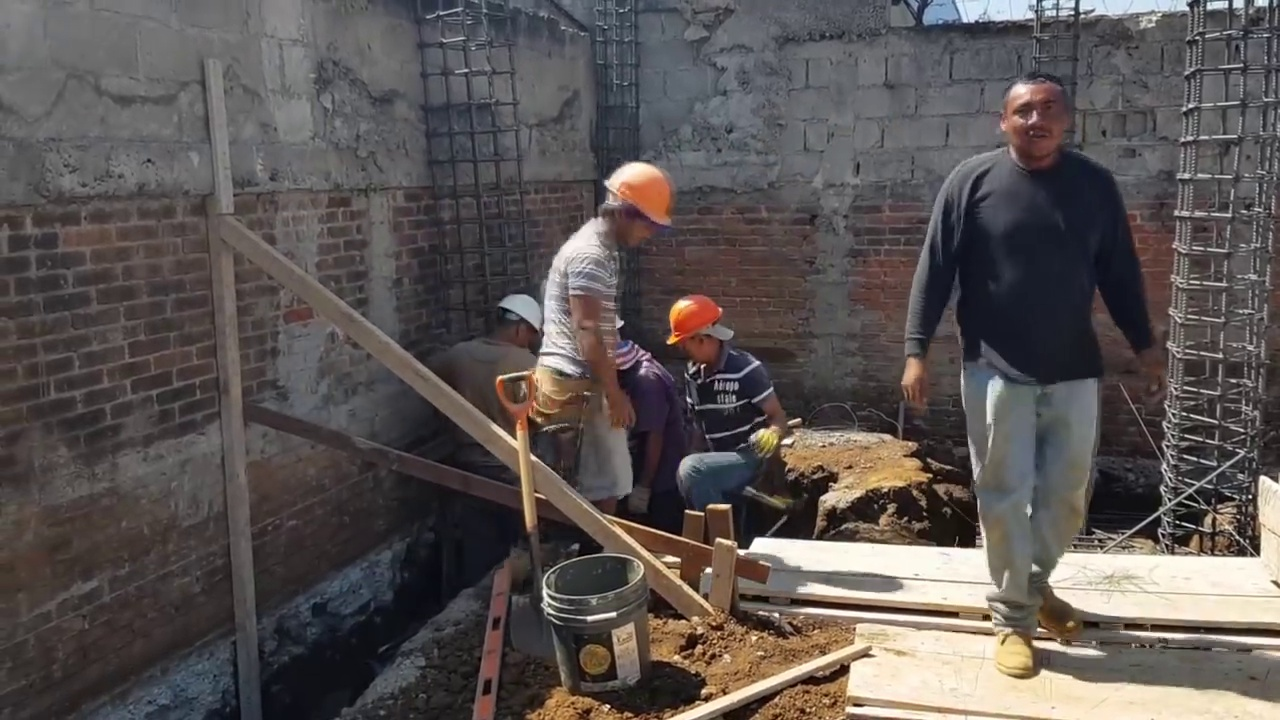helmet: (601, 165, 673, 222), (661, 297, 719, 348), (494, 295, 539, 329)
helmet-off: (1005, 69, 1079, 162)
helmet-on: (597, 159, 673, 254), (663, 295, 728, 372), (478, 289, 544, 351)
person: (905, 60, 1163, 665), (531, 158, 674, 527), (659, 296, 780, 521), (425, 288, 545, 480)
